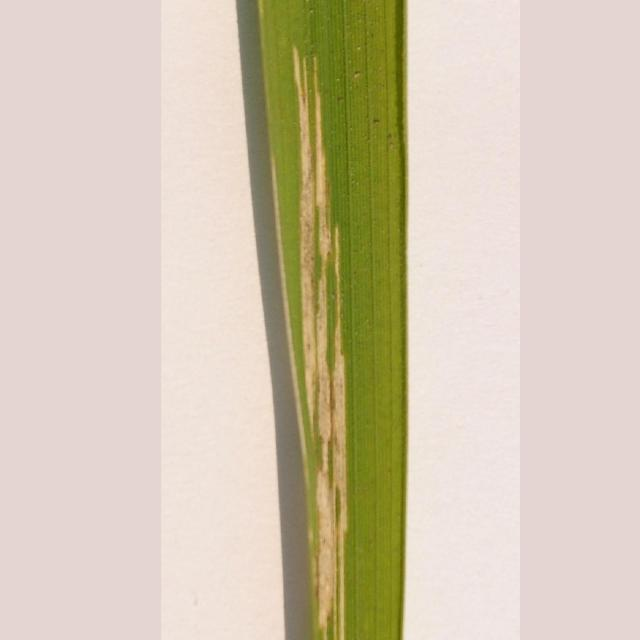Bacterial leaf blight: (268, 41, 348, 640)
